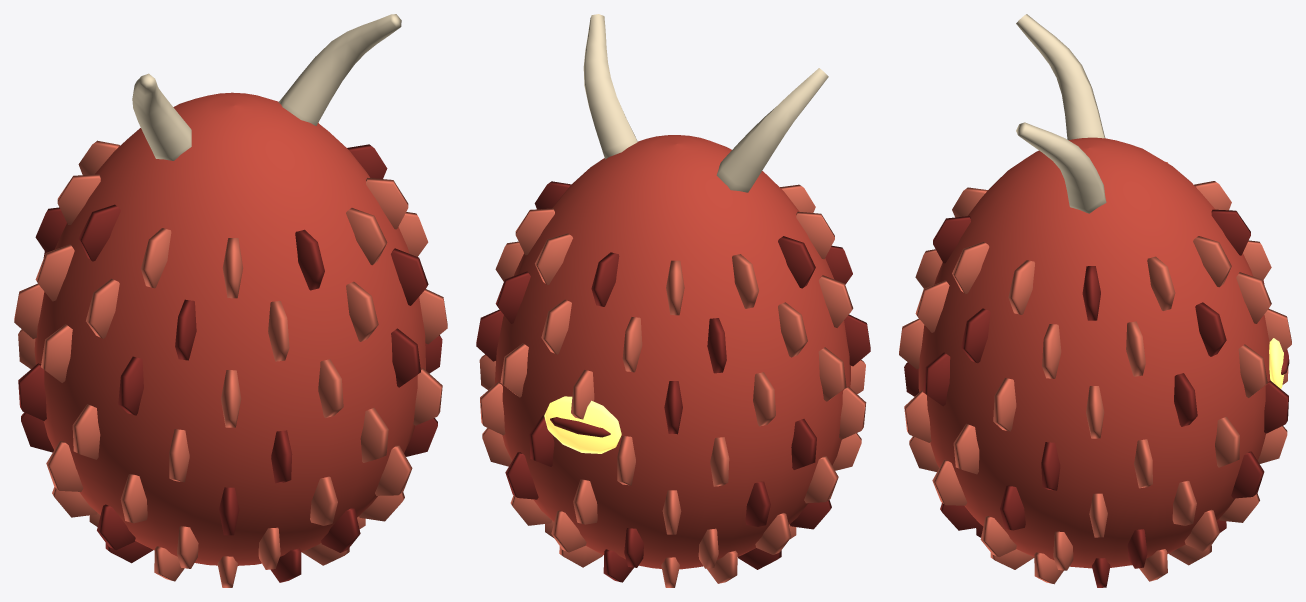
File: EggDragon.glb
3 views of the same model, side by side, from view 1: azimuth 30°, elevation 25°; view 2: azimuth 150°, elevation 25°; view 3: azimuth 270°, elevation 25° (orthographic). The views are drawn at different scales.
Visible parts, largest first — view 1: Body; view 2: Body, Glow; view 3: Body, Glow.
Part boxes in pixels (x1=…): Body: x1=14, y1=14, x2=447, y2=587; Body: x1=476, y1=14, x2=870, y2=587; Glow: x1=544, y1=396, x2=621, y2=453; Body: x1=899, y1=14, x2=1291, y2=587; Glow: x1=1269, y1=338, x2=1284, y2=388.
Size of the model in its own units: 2.11 by 2.87 by 2.11.
2 materials, 1 textured.
